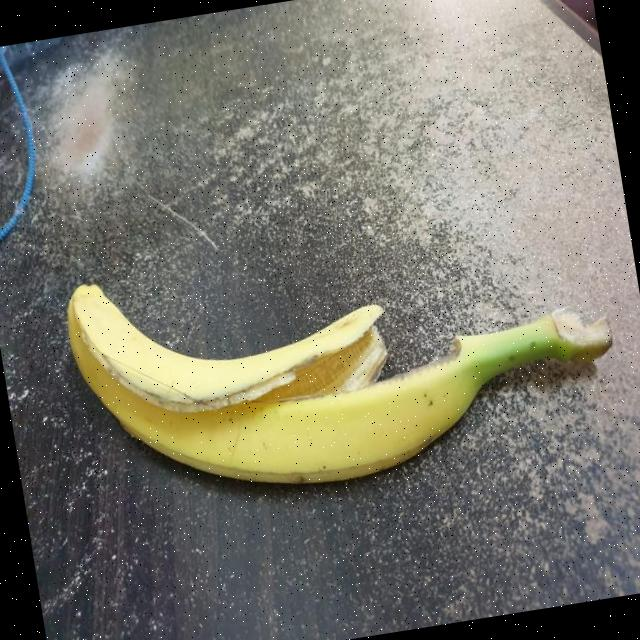banana-peel: (59, 202, 629, 521), (61, 236, 397, 434)
